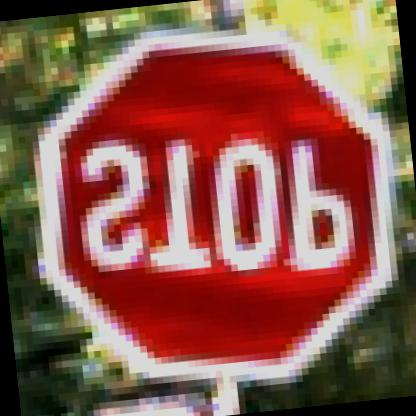stop: (6, 13, 415, 406)
